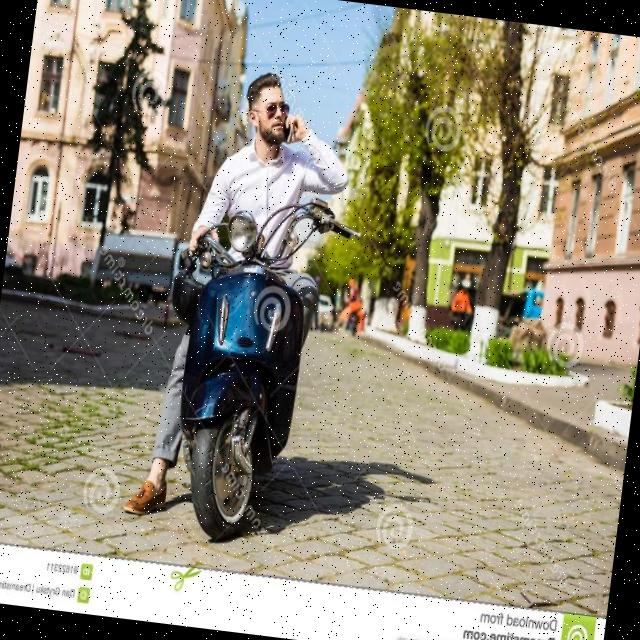No helmet: (240, 67, 292, 156)
Using mobile: (190, 48, 354, 236)
